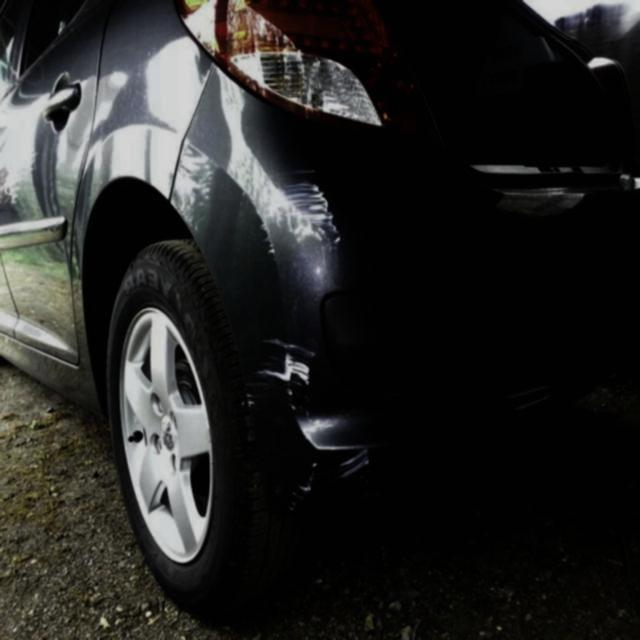minor: (288, 448, 369, 513)
moderate: (266, 162, 345, 246), (245, 338, 314, 419)
